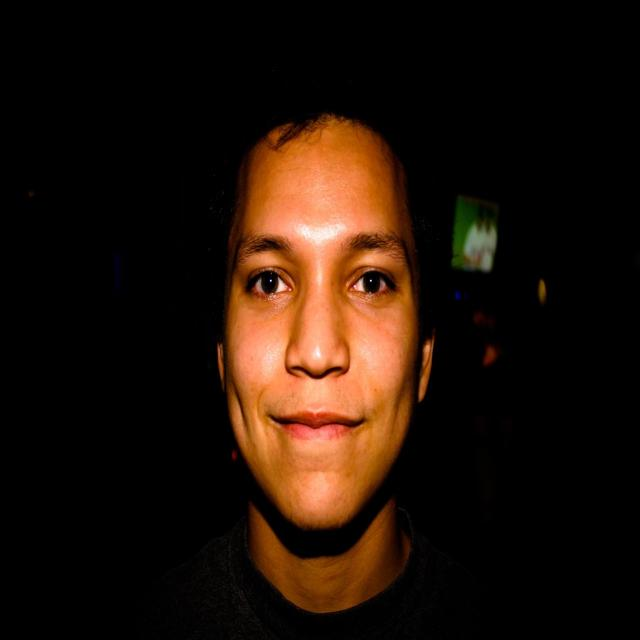Eyebags: (344, 289, 398, 318), (248, 292, 298, 318)
